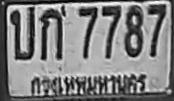7: (78, 6, 98, 59), (102, 5, 121, 58), (147, 3, 165, 56)
8: (124, 5, 143, 57)
A01: (39, 8, 64, 60)
A26: (9, 6, 36, 61)
BKK: (26, 70, 147, 98)
